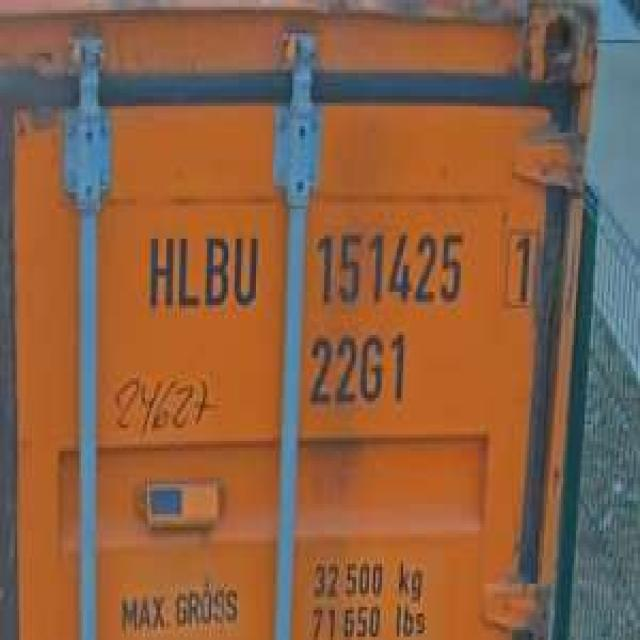dv: (501, 222, 540, 312)
owner: (143, 222, 262, 315)
serial: (308, 219, 470, 312)
size: (303, 325, 410, 411)
